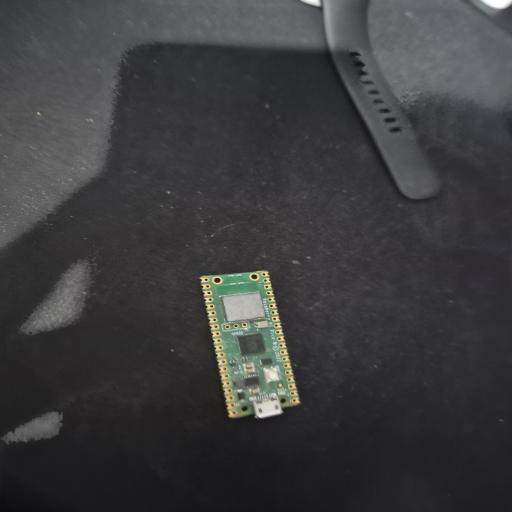raspberry-pi-pico-w: (200, 271, 300, 418)
